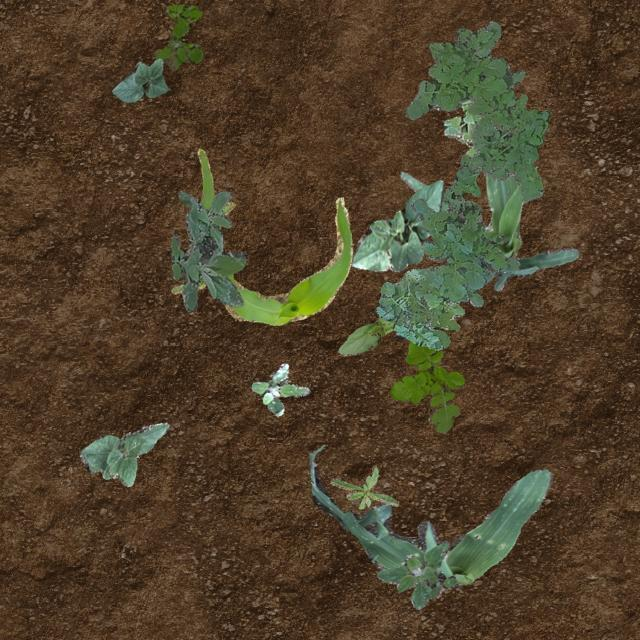crop: (308, 444, 550, 586), (170, 148, 352, 324), (394, 170, 578, 338), (350, 178, 442, 270), (78, 422, 168, 486), (112, 58, 170, 102), (338, 316, 396, 354)
weed: (374, 153, 518, 350), (404, 20, 548, 202), (170, 190, 246, 310), (388, 340, 464, 432), (376, 540, 456, 608), (154, 2, 202, 70), (250, 362, 308, 416), (330, 464, 398, 508), (442, 98, 480, 156)
